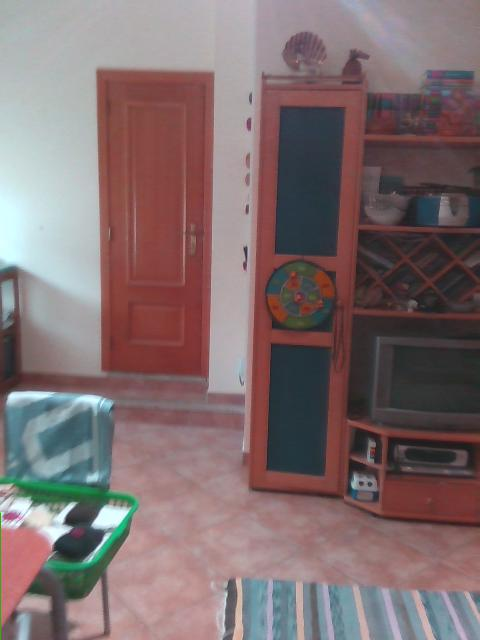closed_door: (92, 65, 220, 381)
